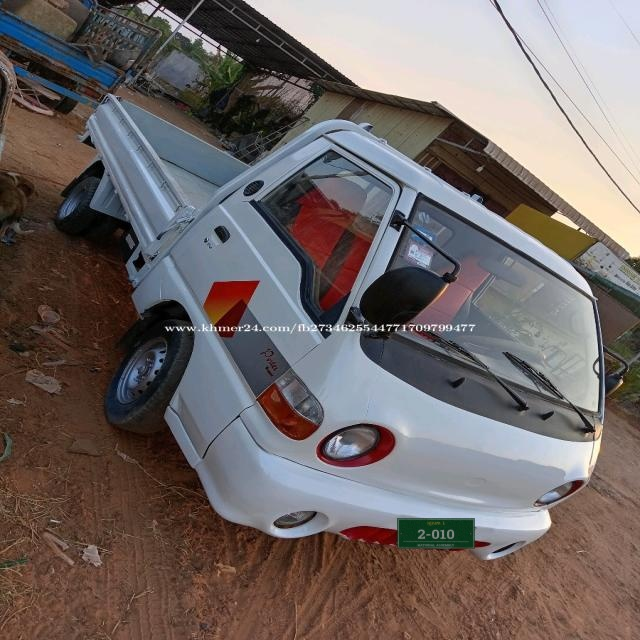Plate Number: (398, 518, 476, 550)
